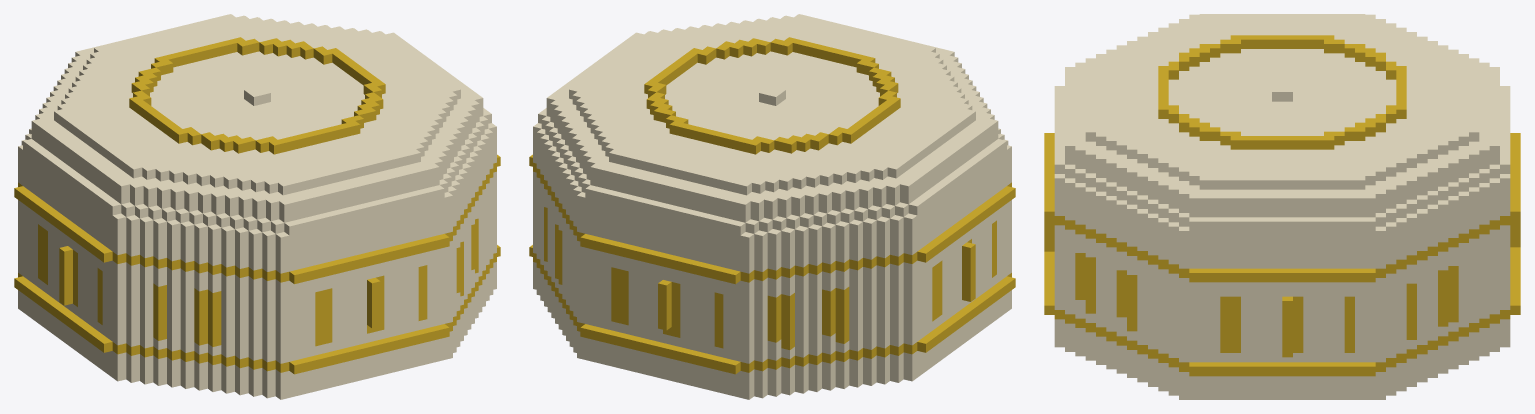
Rendered from kufi_cap.glb.
3 views of the same model, side by side, from view 1: azimuth 30°, elevation 25°; view 2: azimuth 150°, elevation 25°; view 3: azimuth 270°, elevation 25° (orthographic). The views are drawn at different scales.
Visible parts, largest first — view 1: kufi_cap:compound; view 2: kufi_cap:compound; view 3: kufi_cap:compound.
Part boxes in pixels (x1,y1,x2,y2): kufi_cap:compound: (14,14,500,399); kufi_cap:compound: (529,14,1015,399); kufi_cap:compound: (1044,14,1520,399).
Bounding box in the file's own units: 0.184 × 0.092 × 0.184.
